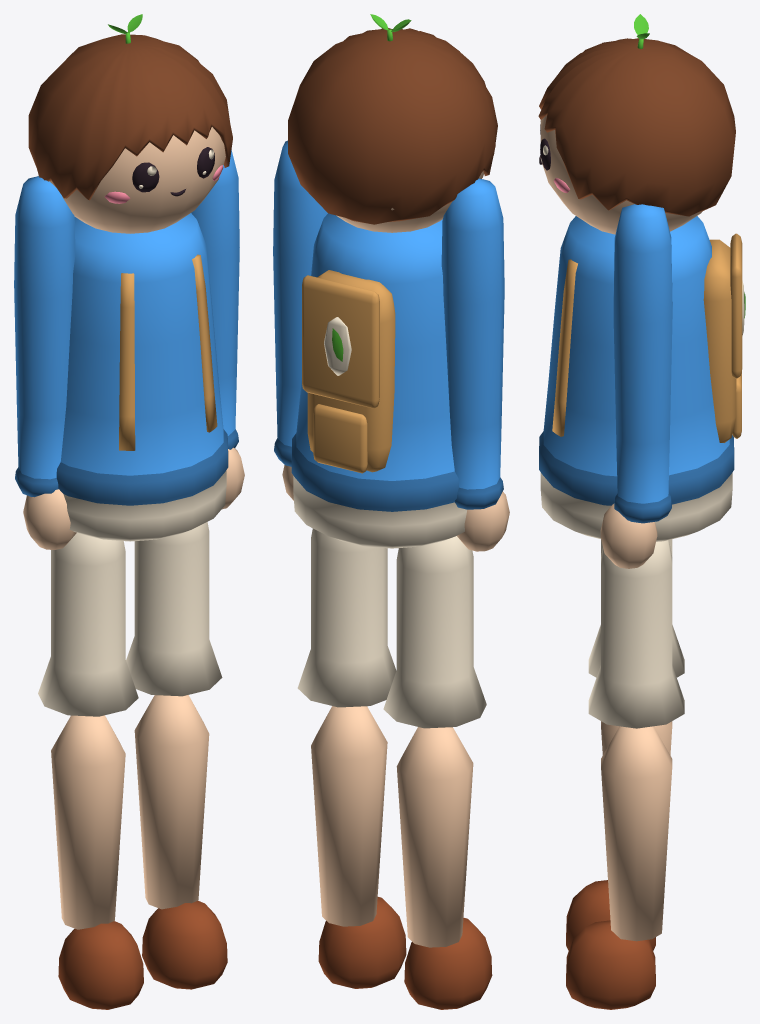
File: hero-grown.glb
3 renders of one model, left to right at view 1: azimuth 30°, elevation 25°; view 2: azimuth 150°, elevation 25°; view 3: azimuth 270°, elevation 25°, orthographic. The views are drawn at different scales.
Parts seen in each view (by area): view 1: body, leg-left, leg-right, head, arm-left, arm-right; view 2: body, leg-left, head, leg-right, arm-left, arm-right; view 3: body, leg-right, head, arm-right, leg-left.
Part boxes in pixels (left/top/right/bottom): body: left=56, top=213, right=228, bottom=541; leg-left: left=38, top=533, right=143, bottom=1009; leg-right: left=126, top=522, right=227, bottom=989; head: left=28, top=34, right=232, bottom=233; arm-left: left=14, top=176, right=76, bottom=549; arm-right: left=191, top=150, right=244, bottom=509; body: left=291, top=213, right=466, bottom=548; leg-left: left=383, top=536, right=492, bottom=1009; head: left=288, top=28, right=497, bottom=232; leg-right: left=297, top=528, right=406, bottom=988; arm-left: left=441, top=178, right=509, bottom=551; arm-right: left=273, top=140, right=327, bottom=500; body: left=539, top=216, right=745, bottom=541; leg-right: left=566, top=540, right=684, bottom=1009; head: left=538, top=38, right=735, bottom=234; arm-right: left=600, top=204, right=672, bottom=568; leg-left: left=566, top=539, right=684, bottom=950.
Bounding box in the file's own units: 0.7812 × 3.29 × 0.6456.
